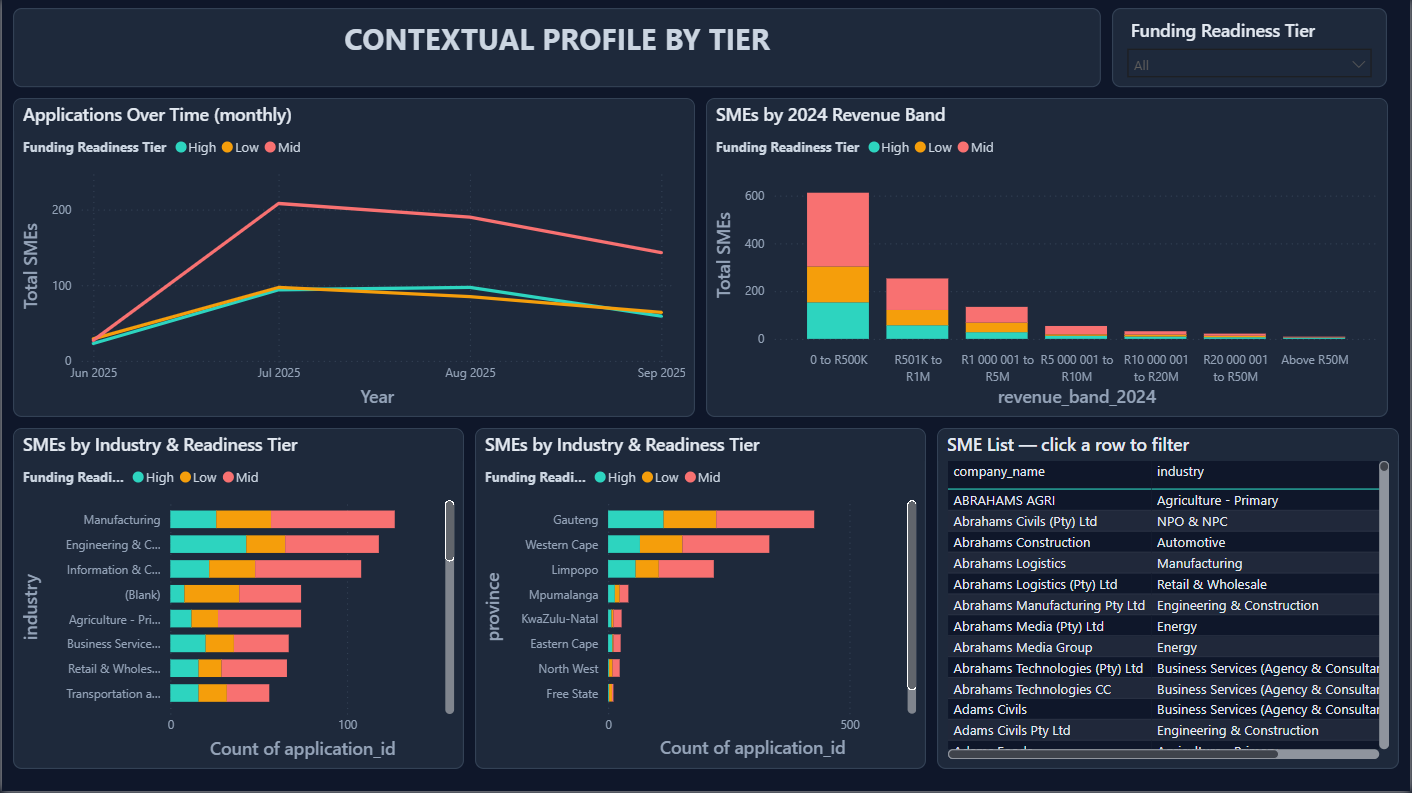

This screenshot's page, from the dashboard's own definition file:
{"tool":"powerbi","page":{"name":"Contextual Profile","canvas":[1280,720],"ordinal":2},"visuals":[{"type":"textbox","box":[9.9,8.1,989.3,71.8],"z":0},{"type":"lineChart","title":"Applications Over Time (monthly)","fields":{"Y":["Funding Readiness.Total SMEs"],"Category":["Clean Data.created_at.Variation.Date Hierarchy.Year","Clean Data.created_at.Variation.Date Hierarchy.Month"],"Series":["Funding Readiness.Funding Readiness Tier"]},"box":[9.9,89.8,620.3,290],"z":1000},{"type":"columnChart","title":"SMEs by 2024 Revenue Band","fields":{"Category":["Clean Data.revenue_band_2024"],"Y":["Funding Readiness.Total SMEs"],"Series":["Funding Readiness.Funding Readiness Tier"]},"box":[640.1,89.8,620.3,290],"z":2000},{"type":"barChart","title":"SMEs by Industry & Readiness Tier","fields":{"Category":["Funding Readiness.industry"],"Y":["CountNonNull(Funding Readiness.application_id)"],"Series":["Funding Readiness.readiness_tier"]},"box":[10,390,410,310],"z":3000},{"type":"tableEx","title":"SME List — click a row to filter","fields":{"Values":["Funding Readiness.company_name","Funding Readiness.industry","Funding Readiness.province"]},"box":[850,390,420,310],"z":4000},{"type":"barChart","title":"SMEs by Industry & Readiness Tier","fields":{"Y":["CountNonNull(Funding Readiness.application_id)"],"Series":["Funding Readiness.readiness_tier"],"Category":["Funding Readiness.province"]},"box":[430,389.6,410.3,309.7],"z":5000},{"type":"slicer","fields":{"Values":["Funding Readiness.readiness_tier"]},"box":[1009.1,8.1,250.5,71.8],"z":6000}]}

Visuals, with their boxes in screenshot pixels (x1, y1, x2, y2), scaled from the page's 1280x720 canvas onto the 1412x793 screenshot:
textbox: 11,9,1102,88
"Applications Over Time (monthly)" lineChart: 11,99,695,418
"SMEs by 2024 Revenue Band" columnChart: 706,99,1390,418
"SMEs by Industry & Readiness Tier" barChart: 11,430,463,771
"SME List — click a row to filter" tableEx: 938,430,1401,771
"SMEs by Industry & Readiness Tier" barChart: 474,429,927,770
slicer - Funding Readiness.readiness_tier: 1113,9,1389,88
